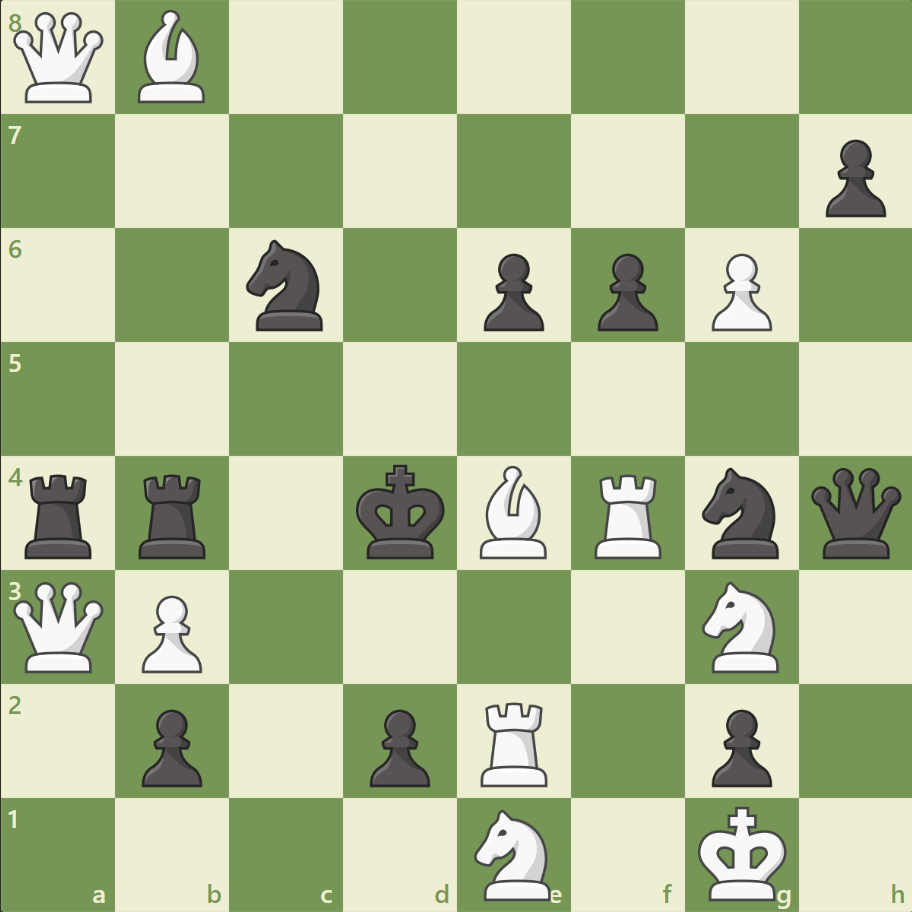B: (131, 6, 215, 109), (471, 460, 555, 563)
K: (692, 798, 792, 906)
N: (692, 575, 789, 677), (465, 802, 562, 904)
P: (701, 246, 776, 337), (133, 586, 208, 677)
Q: (10, 576, 109, 676), (10, 9, 109, 108)
R: (587, 466, 670, 563), (473, 693, 556, 790)
k: (351, 458, 451, 566)
n: (238, 234, 335, 337), (692, 461, 789, 564)
p: (474, 246, 549, 337), (133, 700, 208, 791), (701, 700, 776, 791), (815, 132, 889, 223), (588, 246, 662, 337), (361, 700, 435, 791)
q: (805, 463, 904, 562)
r: (19, 466, 102, 563), (133, 466, 215, 563)
